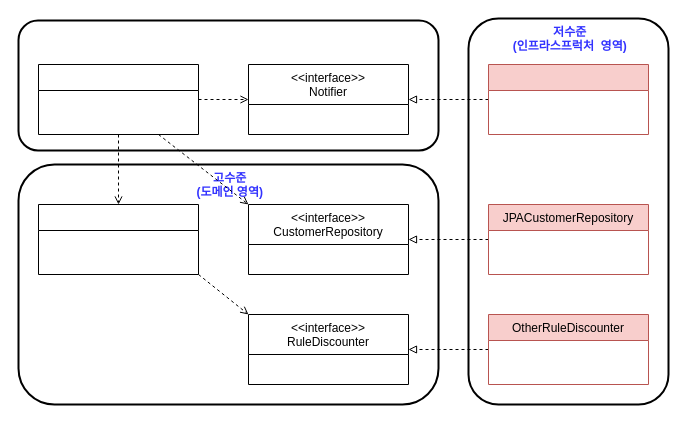
The diagram is 686 pixels wide and 422 high, and some of its shapes have lost their labels. The box of each missing label's shape, as (x1, y1, x2, y2) in pixels:
CalculateDiscountService: (38, 204, 198, 274)
OrderService: (38, 64, 198, 134)
SMSNotifier: (488, 64, 648, 134)
고수준 (응용 영역): (17, 19, 439, 151)
